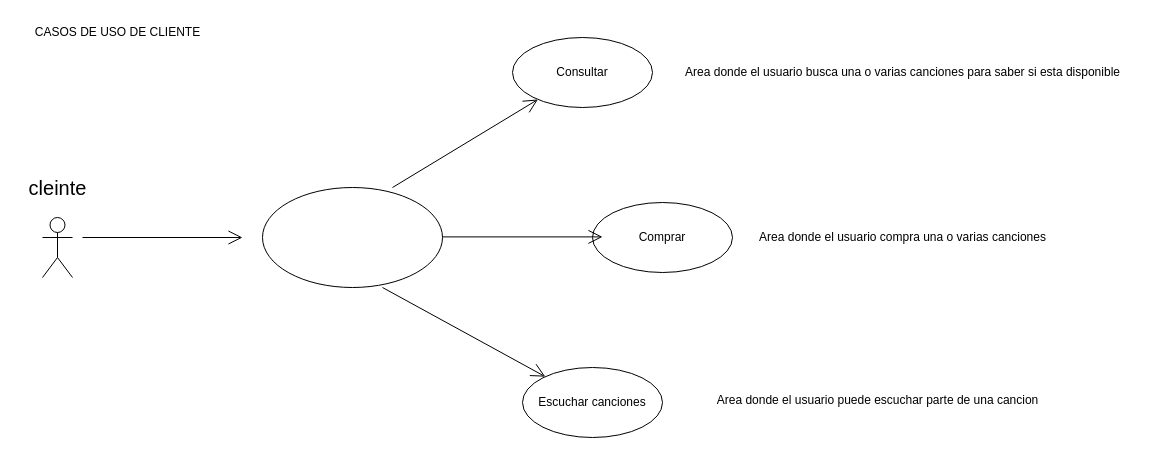
Image size: 1149x455. Some labels were removed from this diagram. The centre of each missing label's shape, as x and y in pixels:
"Actor" belongs at pixel 57 247.
"Tienda" belongs at pixel 352 237.
